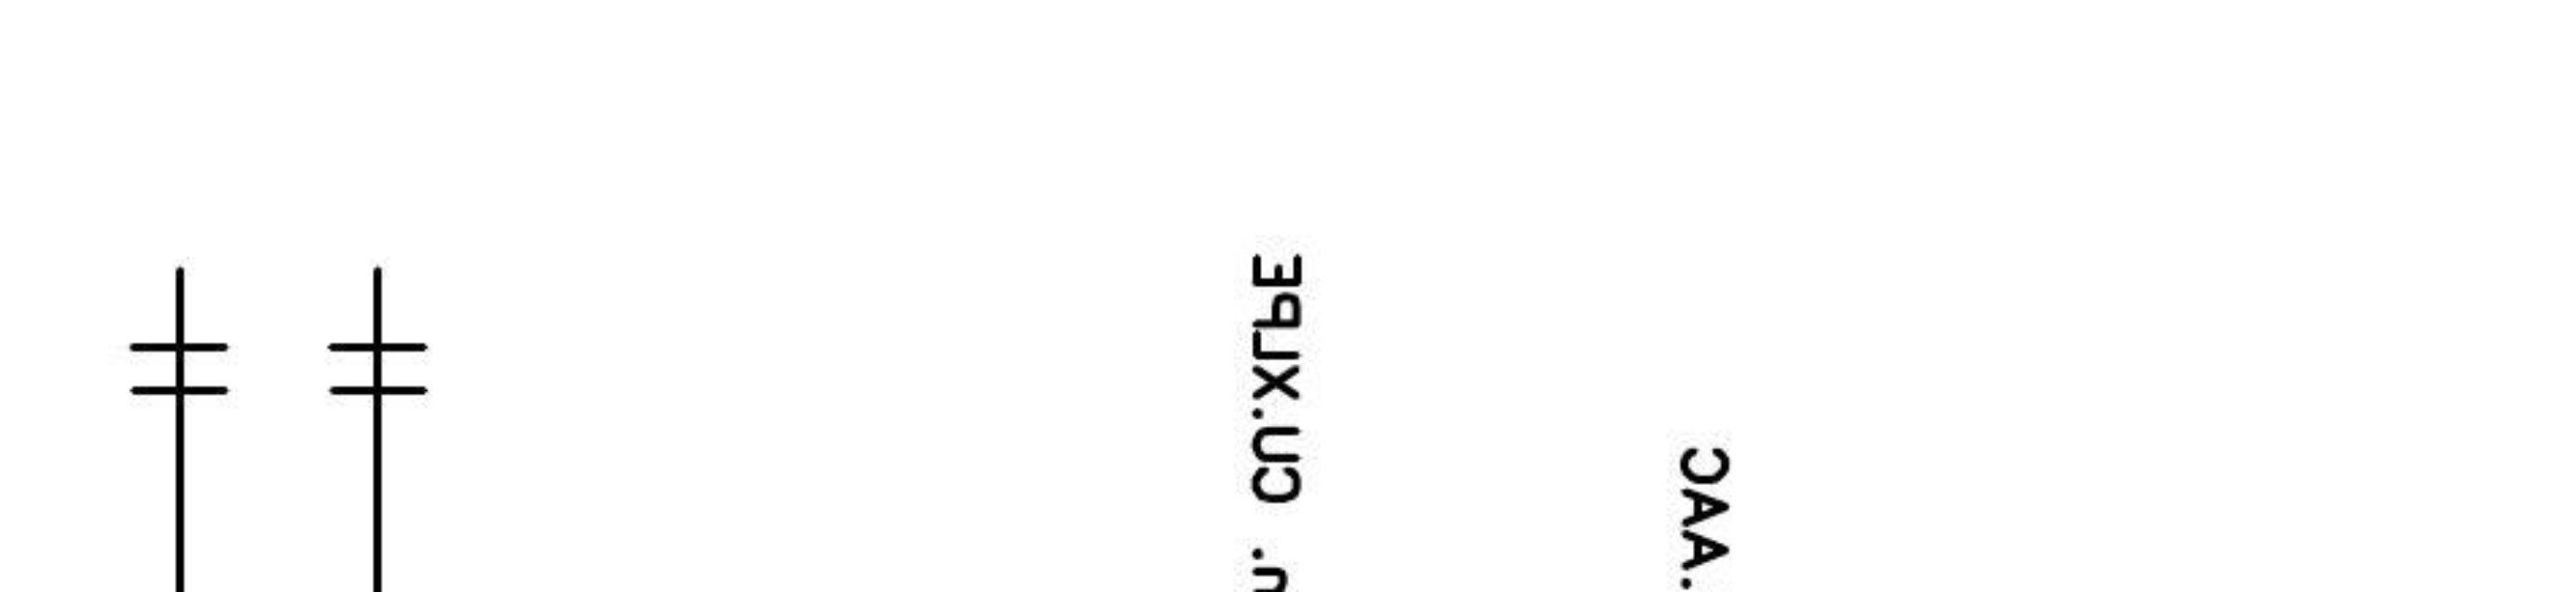115_buffer: (327, 343, 429, 395), (128, 343, 230, 395)
